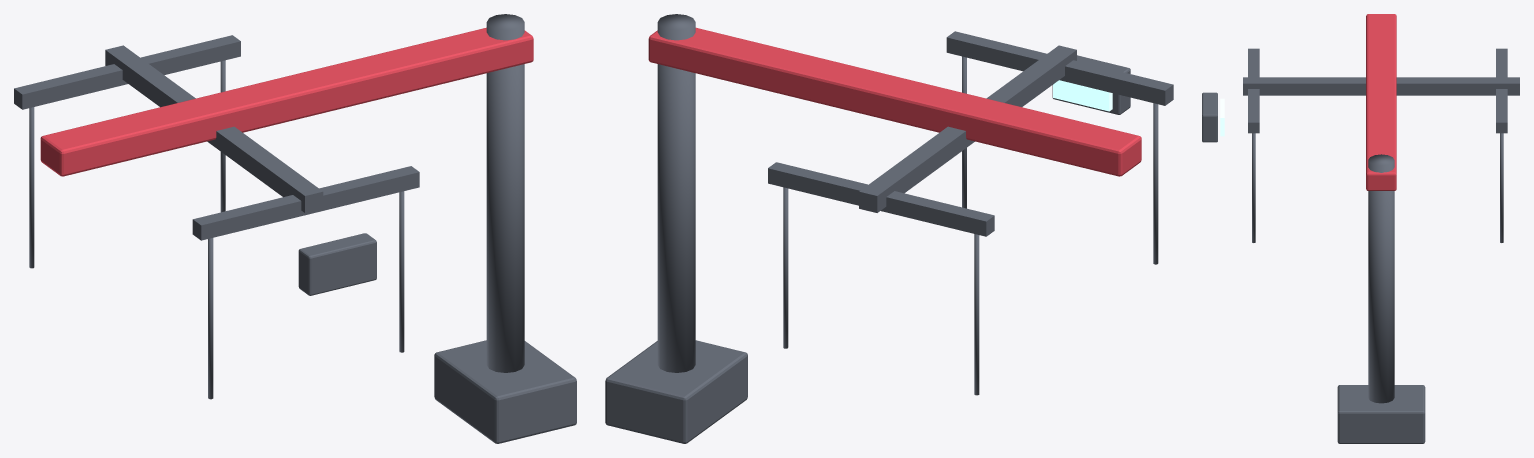
The model's file is pit_boom.fbx.
3 renders of one model, left to right at view 1: azimuth 30°, elevation 25°; view 2: azimuth 150°, elevation 25°; view 3: azimuth 270°, elevation 25°, orthographic. The views are drawn at different scales.
Parts seen in each view (by area): view 1: BoomArm, BoomMast, BoomPlinth, CrossSpine, SubArmF, SubArmR, LightHousing, AirHose_-1.1_1.6, AirHose_-1.1_-1.8, AirHose_1.1_-1.8, AirHose_1.1_1.6; view 2: BoomArm, BoomMast, BoomPlinth, CrossSpine, SubArmR, SubArmF, PitStatusLed, AirHose_-1.1_-1.8, AirHose_-1.1_1.6, AirHose_1.1_1.6, LightHousing; view 3: BoomMast, BoomArm, BoomPlinth, CrossSpine, SubArmF, SubArmR, LightHousing, AirHose_1.1_-1.8, AirHose_1.1_1.6.
Boxes of the visible parts, x1,y1,x2,y2 form: BoomArm: [40, 27, 533, 176]; BoomMast: [486, 14, 524, 372]; BoomPlinth: [434, 340, 576, 443]; CrossSpine: [105, 45, 323, 212]; SubArmF: [192, 166, 419, 240]; SubArmR: [14, 35, 240, 109]; LightHousing: [298, 233, 376, 295]; AirHose_-1.1_1.6: [29, 107, 34, 268]; AirHose_-1.1_-1.8: [208, 238, 213, 399]; AirHose_1.1_-1.8: [399, 191, 404, 352]; AirHose_1.1_1.6: [220, 60, 225, 212]; BoomArm: [648, 27, 1141, 176]; BoomMast: [657, 14, 695, 372]; BoomPlinth: [605, 340, 747, 443]; CrossSpine: [859, 45, 1076, 212]; SubArmR: [768, 162, 994, 236]; SubArmF: [946, 31, 1173, 105]; PitStatusLed: [1053, 80, 1112, 111]; AirHose_-1.1_-1.8: [1153, 103, 1158, 264]; AirHose_-1.1_1.6: [974, 234, 979, 395]; AirHose_1.1_1.6: [783, 187, 788, 348]; LightHousing: [1052, 55, 1130, 114]; BoomMast: [1368, 154, 1394, 403]; BoomArm: [1366, 14, 1396, 190]; BoomPlinth: [1337, 385, 1425, 443]; CrossSpine: [1243, 77, 1519, 95]; SubArmF: [1248, 48, 1259, 133]; SubArmR: [1496, 48, 1507, 133]; LightHousing: [1202, 92, 1217, 142]; AirHose_1.1_-1.8: [1252, 133, 1255, 242]; AirHose_1.1_1.6: [1500, 133, 1503, 242].
Size of the model in its own units: 5.45 by 4.1 by 4.36.
